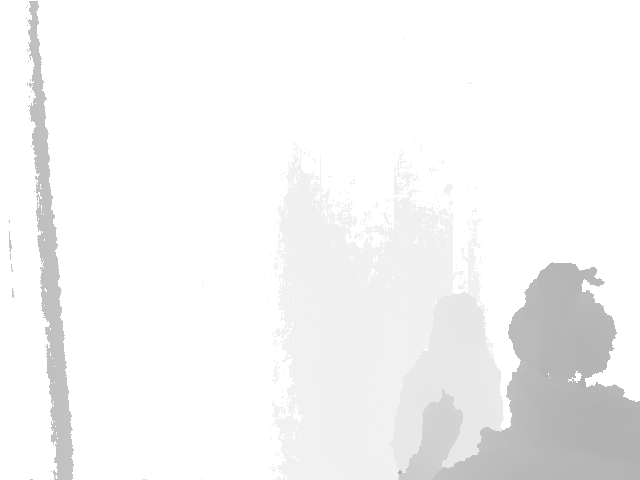head: (508, 262, 617, 376), (428, 295, 488, 355)
person: (395, 262, 640, 480), (392, 295, 503, 480)
